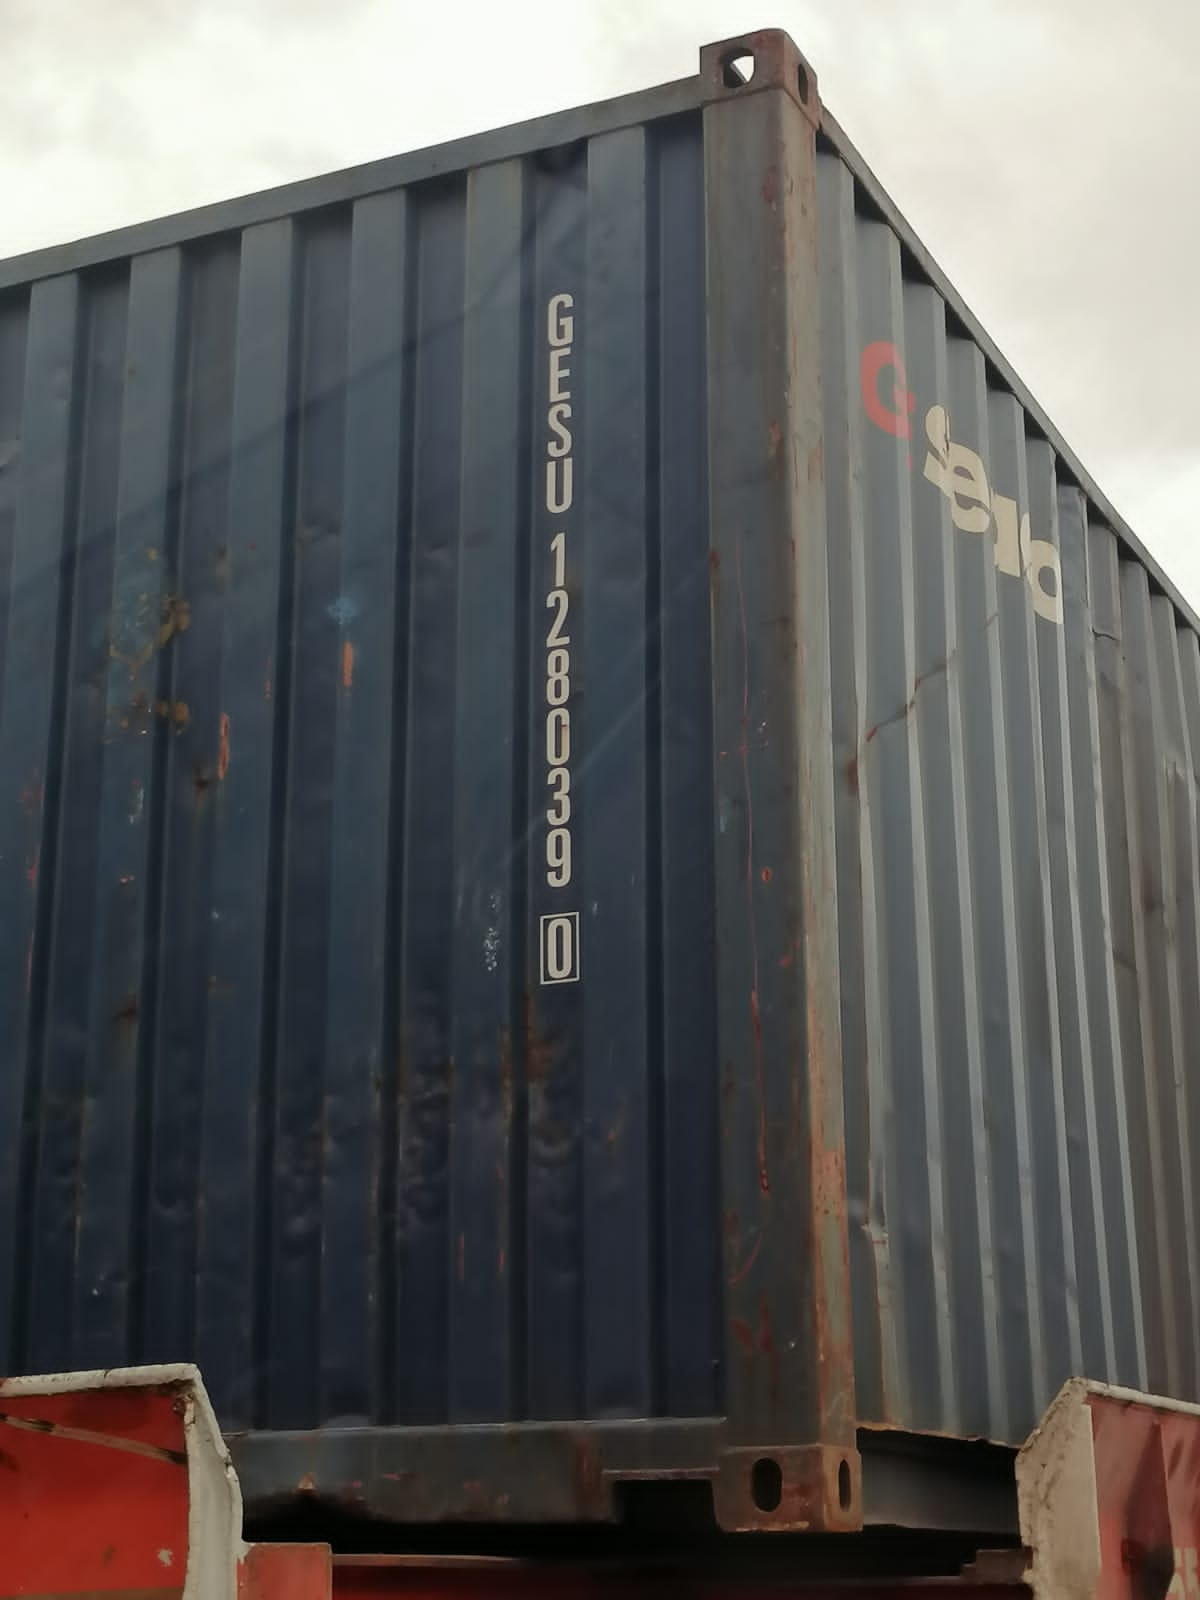moderate: (118, 515, 476, 610)
